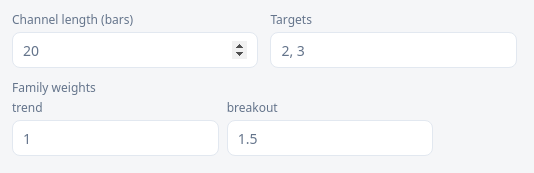
Test: ParamFields › shows defaults as placeholders and keeps only changed values
The width and height of the screenshot is (534, 173).
Expected: the button "reset" is not shown
Type "35" into the number field labelled "Channel length (bars)". click: (135, 50)
box: [12,32,258,68]
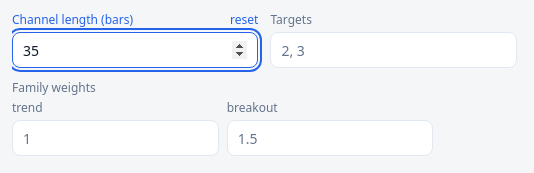
Click the button with aria-label "Reset Channel length to default". click: (244, 20)
box: [230,12,258,28]
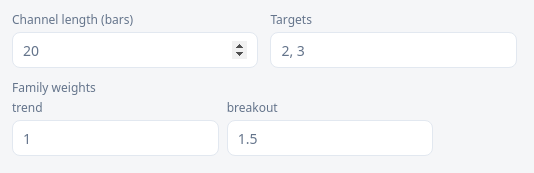
Expected: the number field labelled "Channel length (bars)" is not empty, [12,32,258,68]
